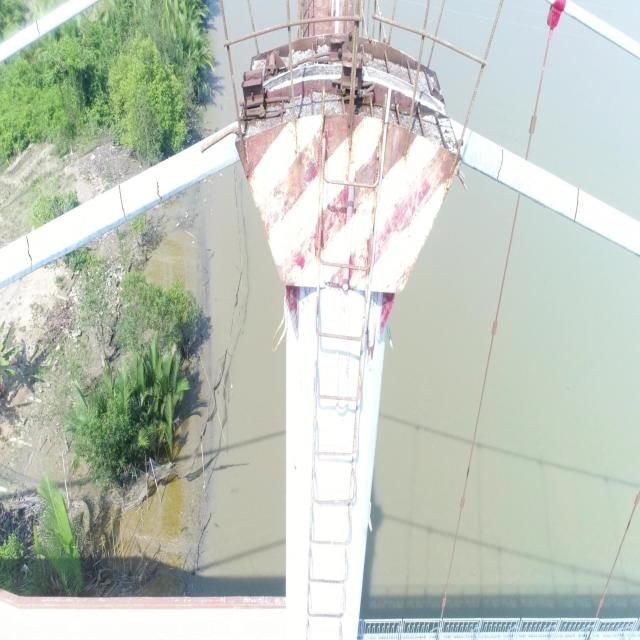crack: (119, 185, 128, 223), (496, 148, 504, 181), (26, 234, 32, 271), (574, 188, 579, 223), (156, 180, 162, 202), (35, 20, 41, 38)
